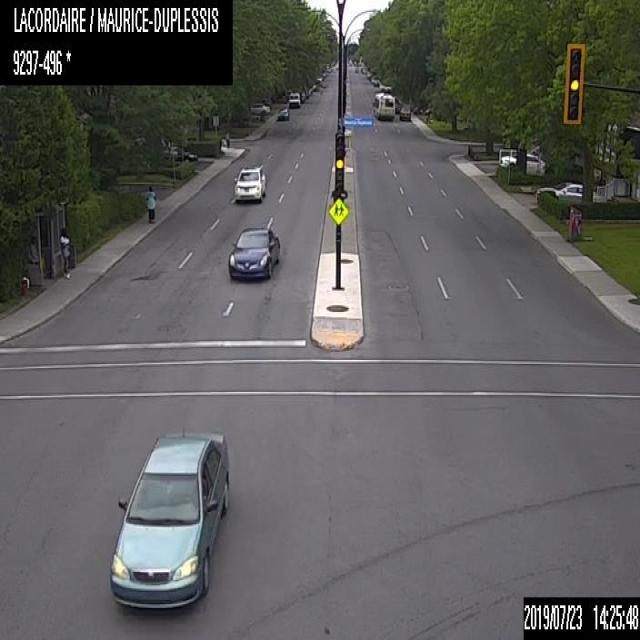bus: (372, 91, 394, 121)
pedestrian: (58, 227, 73, 277), (143, 181, 157, 227), (223, 130, 229, 148)
vehicle: (107, 426, 231, 610), (225, 224, 282, 281), (536, 180, 604, 203), (232, 162, 267, 202), (500, 151, 546, 173), (165, 146, 201, 162), (249, 101, 270, 112), (275, 105, 289, 120), (288, 91, 300, 108), (399, 105, 411, 120), (394, 100, 402, 113), (423, 106, 431, 115), (299, 90, 304, 102)
